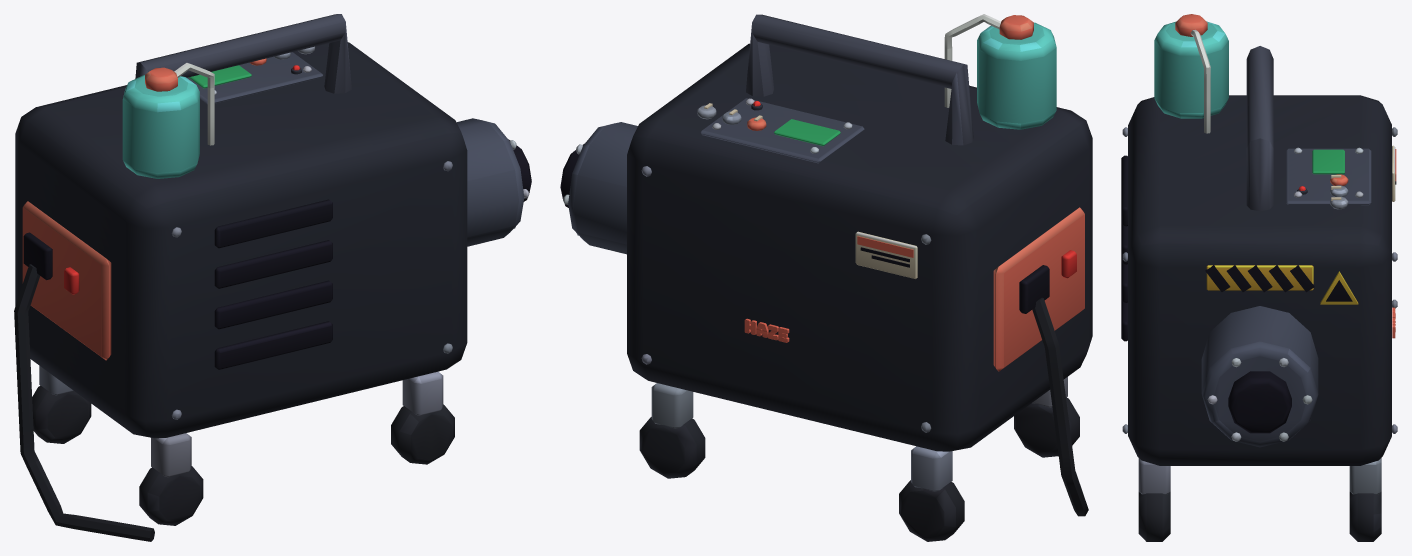
Rendered from SM_Station_SmokeMachine.fbx.
3 renders of one model, left to right at view 1: azimuth 30°, elevation 25°; view 2: azimuth 150°, elevation 25°; view 3: azimuth 270°, elevation 25°, orthographic. The views are drawn at different scales.
Visible parts, largest first — view 1: SM_Station_SmokeMachine; view 2: SM_Station_SmokeMachine; view 3: SM_Station_SmokeMachine.
Boxes of the visible parts, box(x1,y1,x2,y2) form: SM_Station_SmokeMachine: box(14, 14, 531, 541); SM_Station_SmokeMachine: box(560, 14, 1092, 541); SM_Station_SmokeMachine: box(1121, 14, 1397, 541).
Bounding box in the file's own units: 101 × 88.22 × 52.36.
